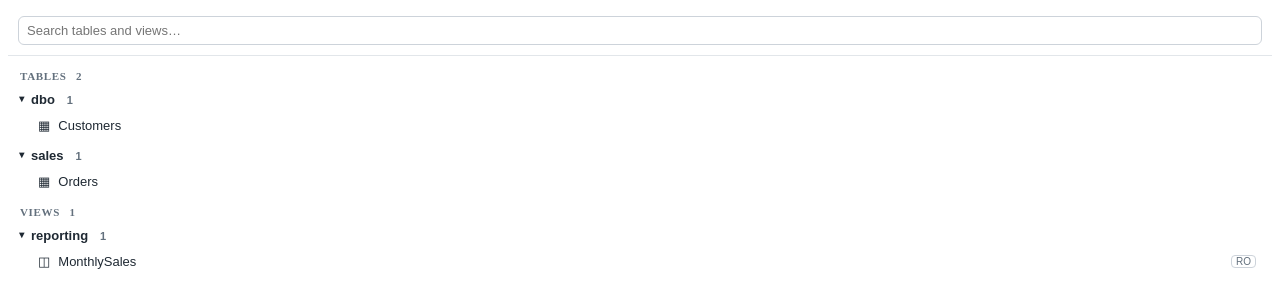
Test: ObjectTree › filters objects by search term across schema and name
This screenshot has width=1280, height=286.
Step 1. Type "order" into the search field named "Search database objects" → {"x": 640, "y": 30}, box [18, 16, 1262, 45]
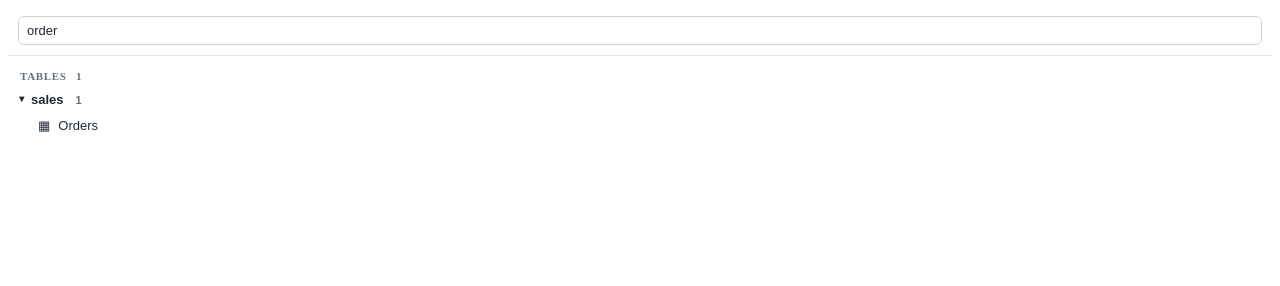
Expected: the text "Orders" is shown, [58, 118, 98, 133]
Expected: the list item "Customers" is gone
